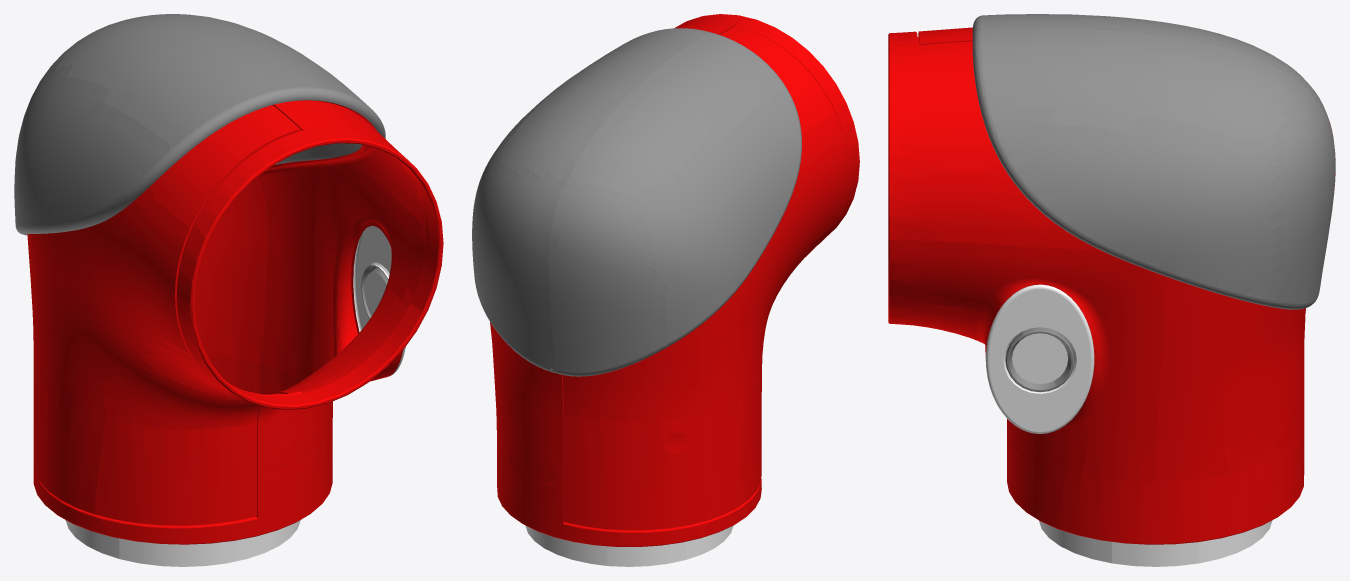
3 renders of one model, left to right at view 1: azimuth 30°, elevation 25°; view 2: azimuth 150°, elevation 25°; view 3: azimuth 270°, elevation 25°, orthographic. The views are drawn at different scales.
Visible parts, largest first — view 1: _3DGeom_155, _3DGeom_154, _3DGeom_156; view 2: _3DGeom_154, _3DGeom_155, _3DGeom_156; view 3: _3DGeom_155, _3DGeom_154, _3DGeom_156.
Part boxes in pixels (x1,y1,x2,y2): _3DGeom_155: [27, 100, 443, 544]; _3DGeom_154: [14, 14, 388, 318]; _3DGeom_156: [65, 226, 405, 566]; _3DGeom_154: [472, 28, 801, 376]; _3DGeom_155: [490, 14, 859, 546]; _3DGeom_156: [525, 525, 733, 566]; _3DGeom_155: [888, 27, 1335, 544]; _3DGeom_154: [972, 14, 1335, 392]; _3DGeom_156: [985, 284, 1272, 566].
Size of the model in its own units: 0.0956 by 0.1278 by 0.154.
